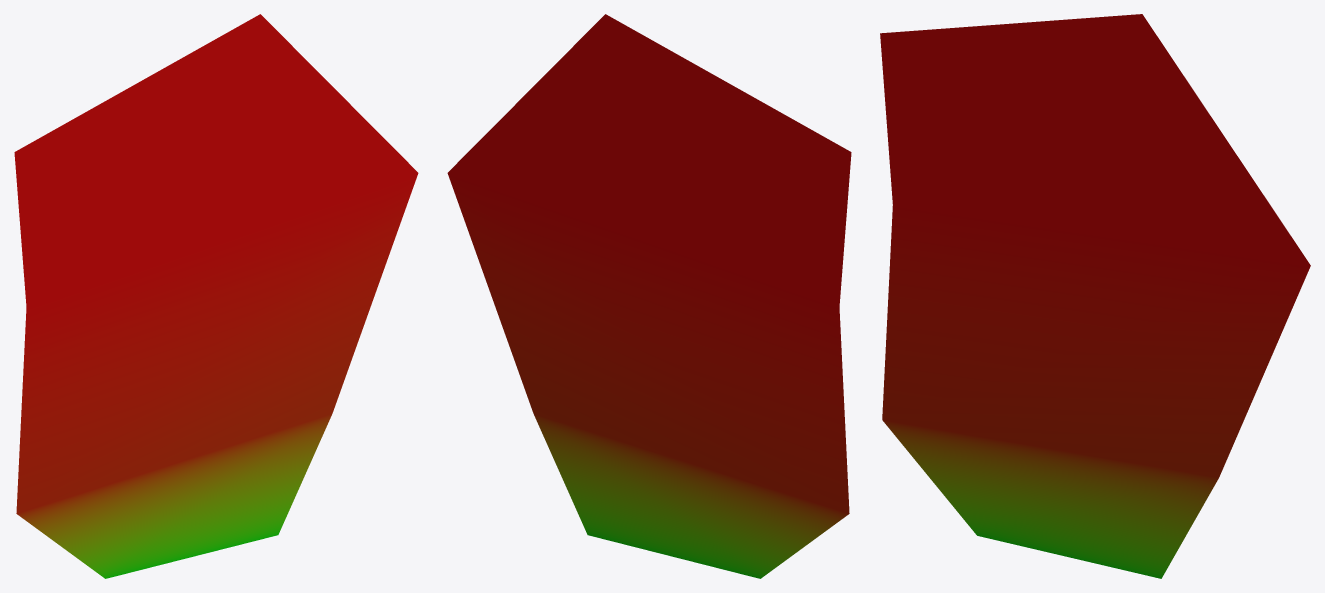
The model's file is White Everlasting_LOD5_Var4_ucvobbbia.fbx.
3 renders of one model, left to right at view 1: azimuth 30°, elevation 25°; view 2: azimuth 150°, elevation 25°; view 3: azimuth 330°, elevation 25°, orthographic. The views are drawn at different scales.
Parts seen in each view (by area): view 1: _41ff_Var4_LOD5; view 2: _41ff_Var4_LOD5; view 3: _41ff_Var4_LOD5.
Boxes of the visible parts, x1,y1,x2,y2 form: _41ff_Var4_LOD5: (14, 14, 418, 578); _41ff_Var4_LOD5: (447, 14, 851, 578); _41ff_Var4_LOD5: (880, 14, 1310, 578).
Bounding box in the file's own units: 49.07 × 61.18 × 7.63e-06.
